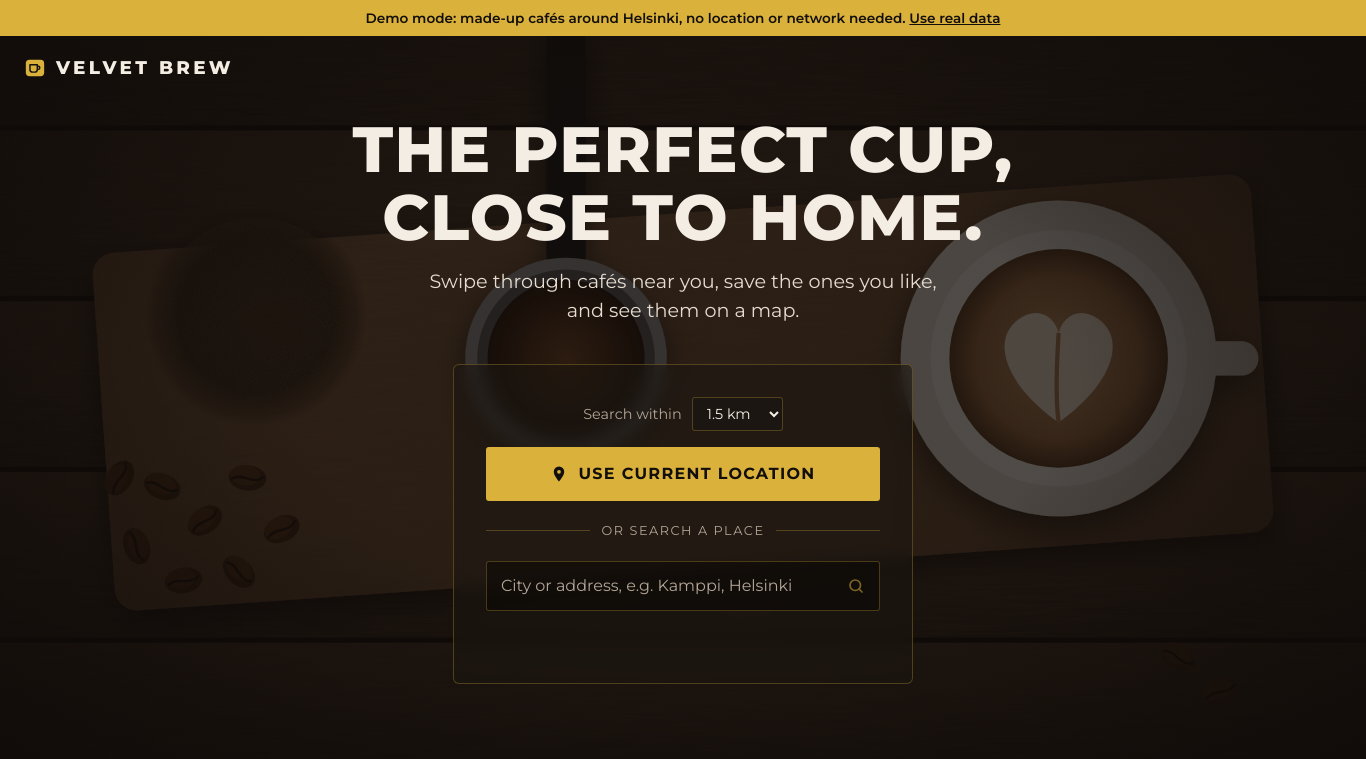
App in demo mode › marks cafés open or closed
Step 1. Click the button "Use current location" → (683, 474), box [486, 447, 880, 501]
(page scrolled)
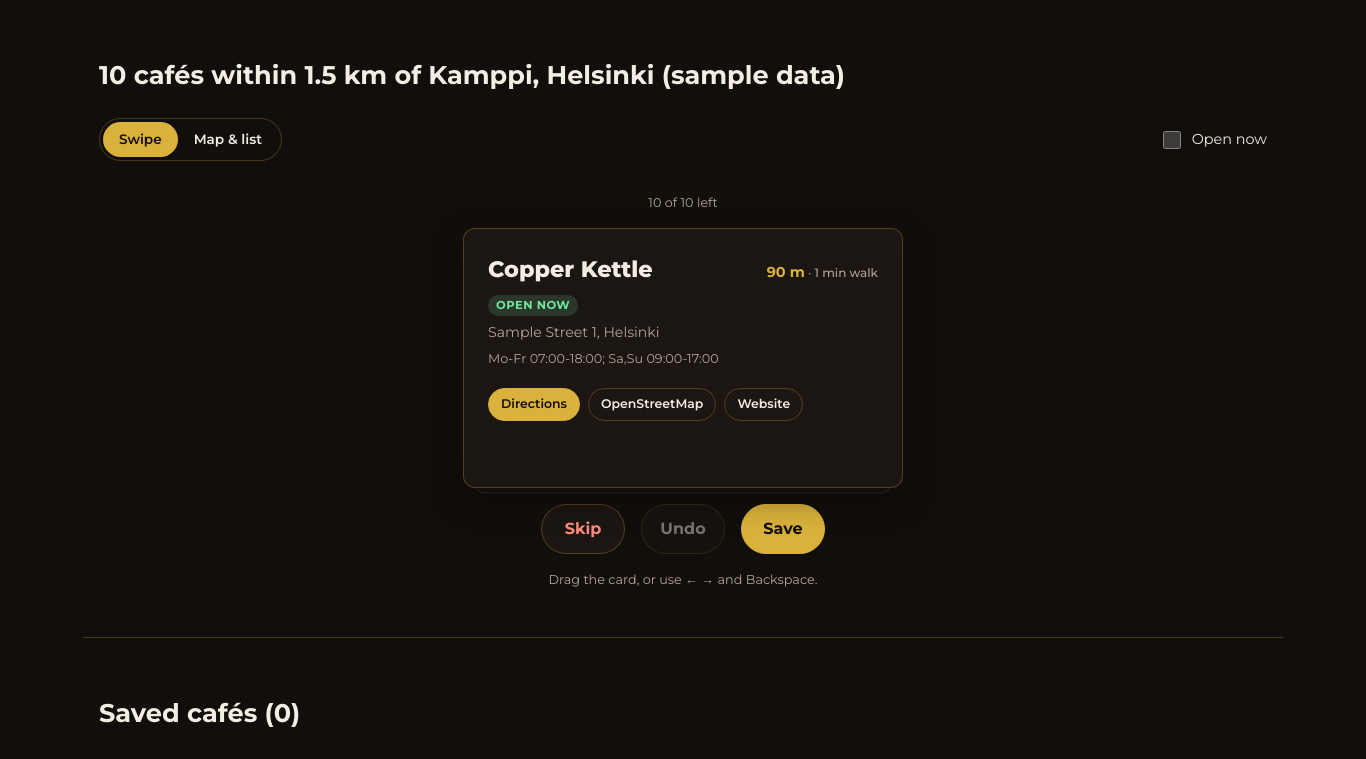
Expected: the text "Open now" is shown, [488, 295, 578, 316]
